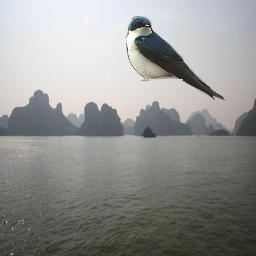Swallow: (126, 16, 225, 101)
